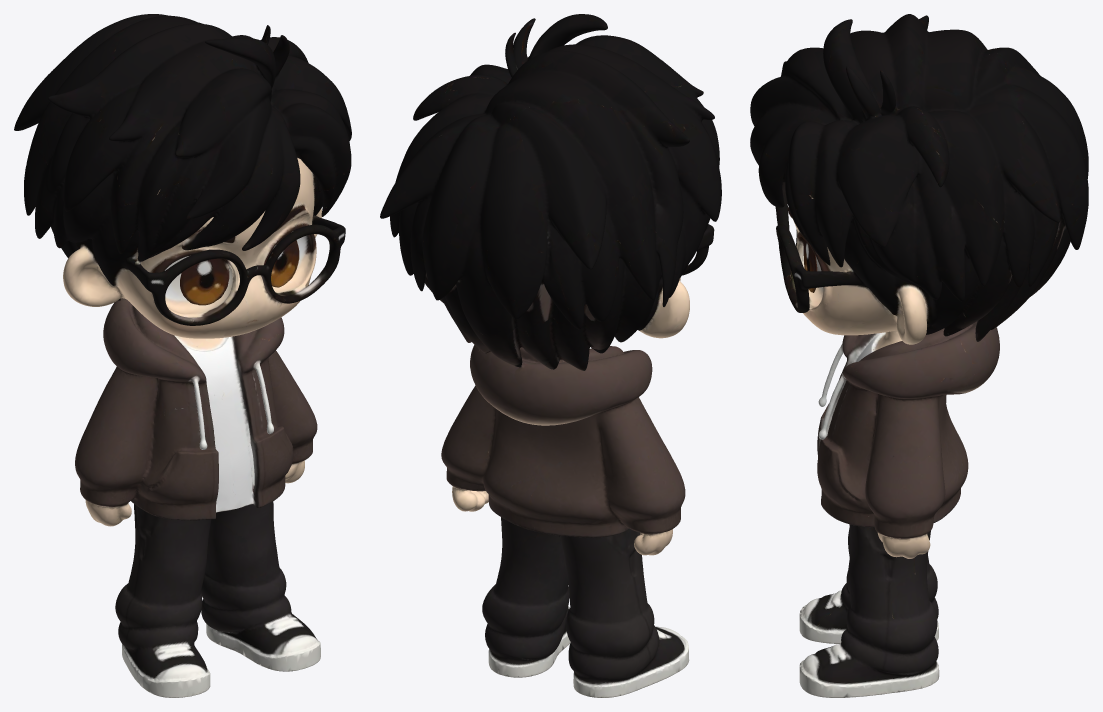
File: avatar.glb
The picture shows the model from 3 angles, left to right: view 1: azimuth 30°, elevation 25°; view 2: azimuth 150°, elevation 25°; view 3: azimuth 270°, elevation 25°; orthographic projection.
Parts seen in each view (by area): view 1: head, body; view 2: head, body; view 3: head, body.
Part boxes in pixels (x1,y1,x2,y2): head: (14,14,351,338); body: (75,307,320,697); head: (380,14,721,378); body: (441,345,689,697); head: (750,14,1088,359); body: (799,327,999,697).
Bounding box in the file's own units: 0.4725 × 1 × 0.4863.
Materials: 1 (1 with a texture image).
